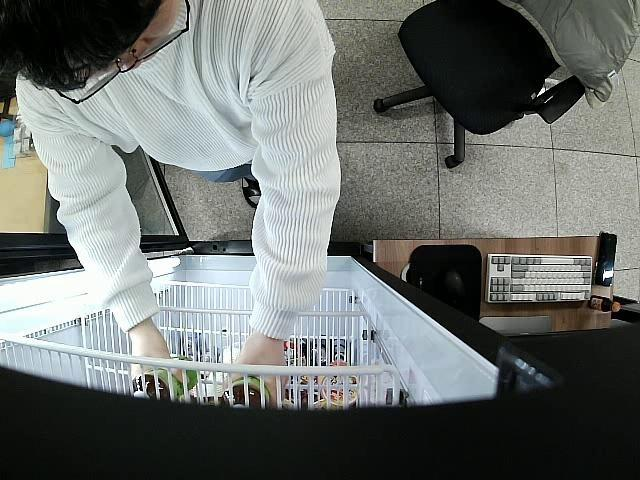19_17cha: (132, 357, 198, 396), (220, 376, 271, 409)
